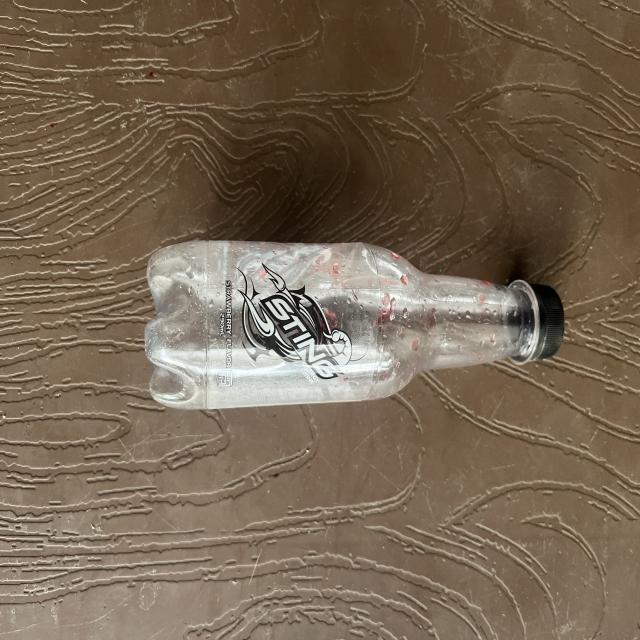REJECT: (33, 238, 560, 418)
